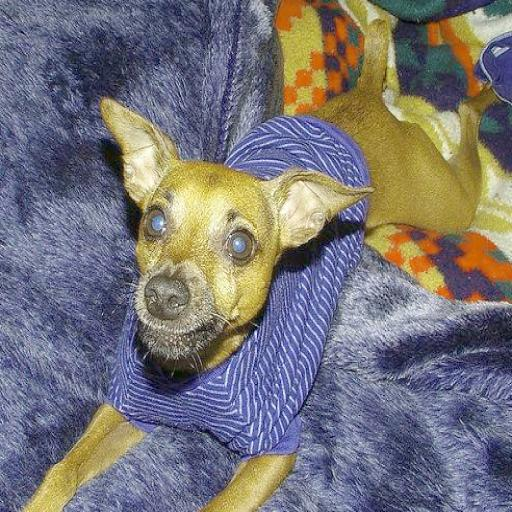dog_face: (98, 96, 362, 354)
